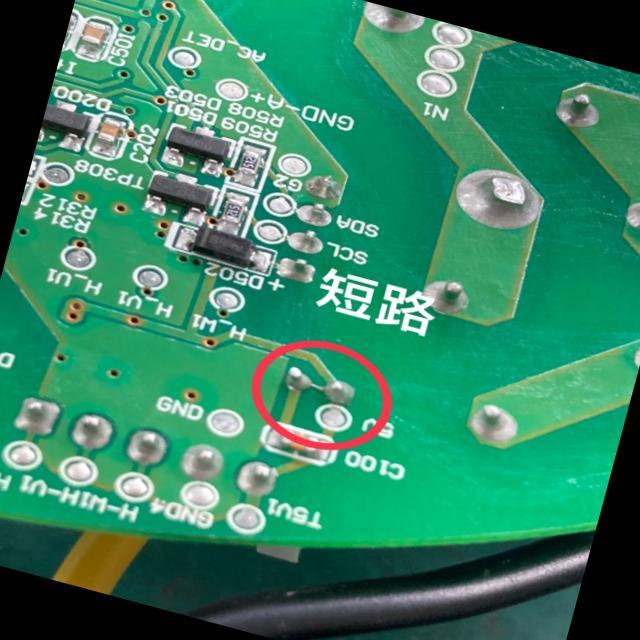Short_circuit: (285, 368, 355, 406)
